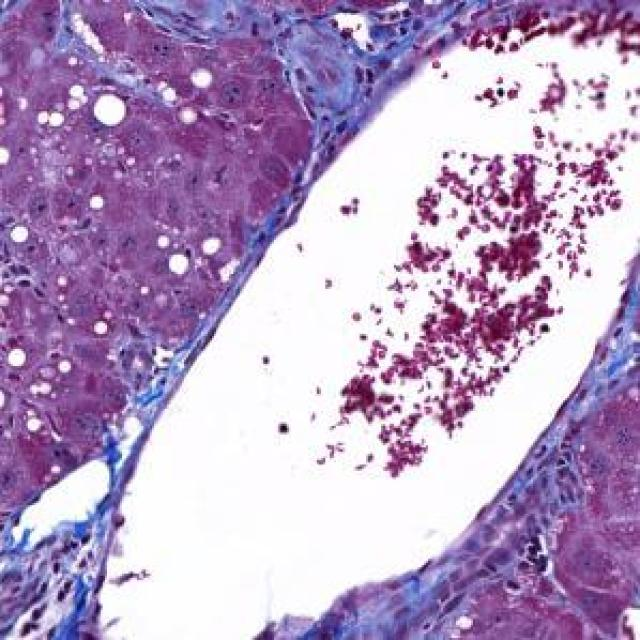fibrosis: (156, 6, 407, 105)
